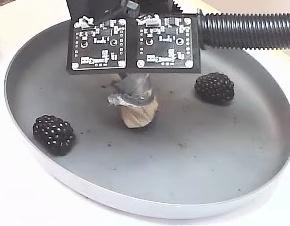berry: (33, 115, 74, 154), (194, 72, 233, 103)
